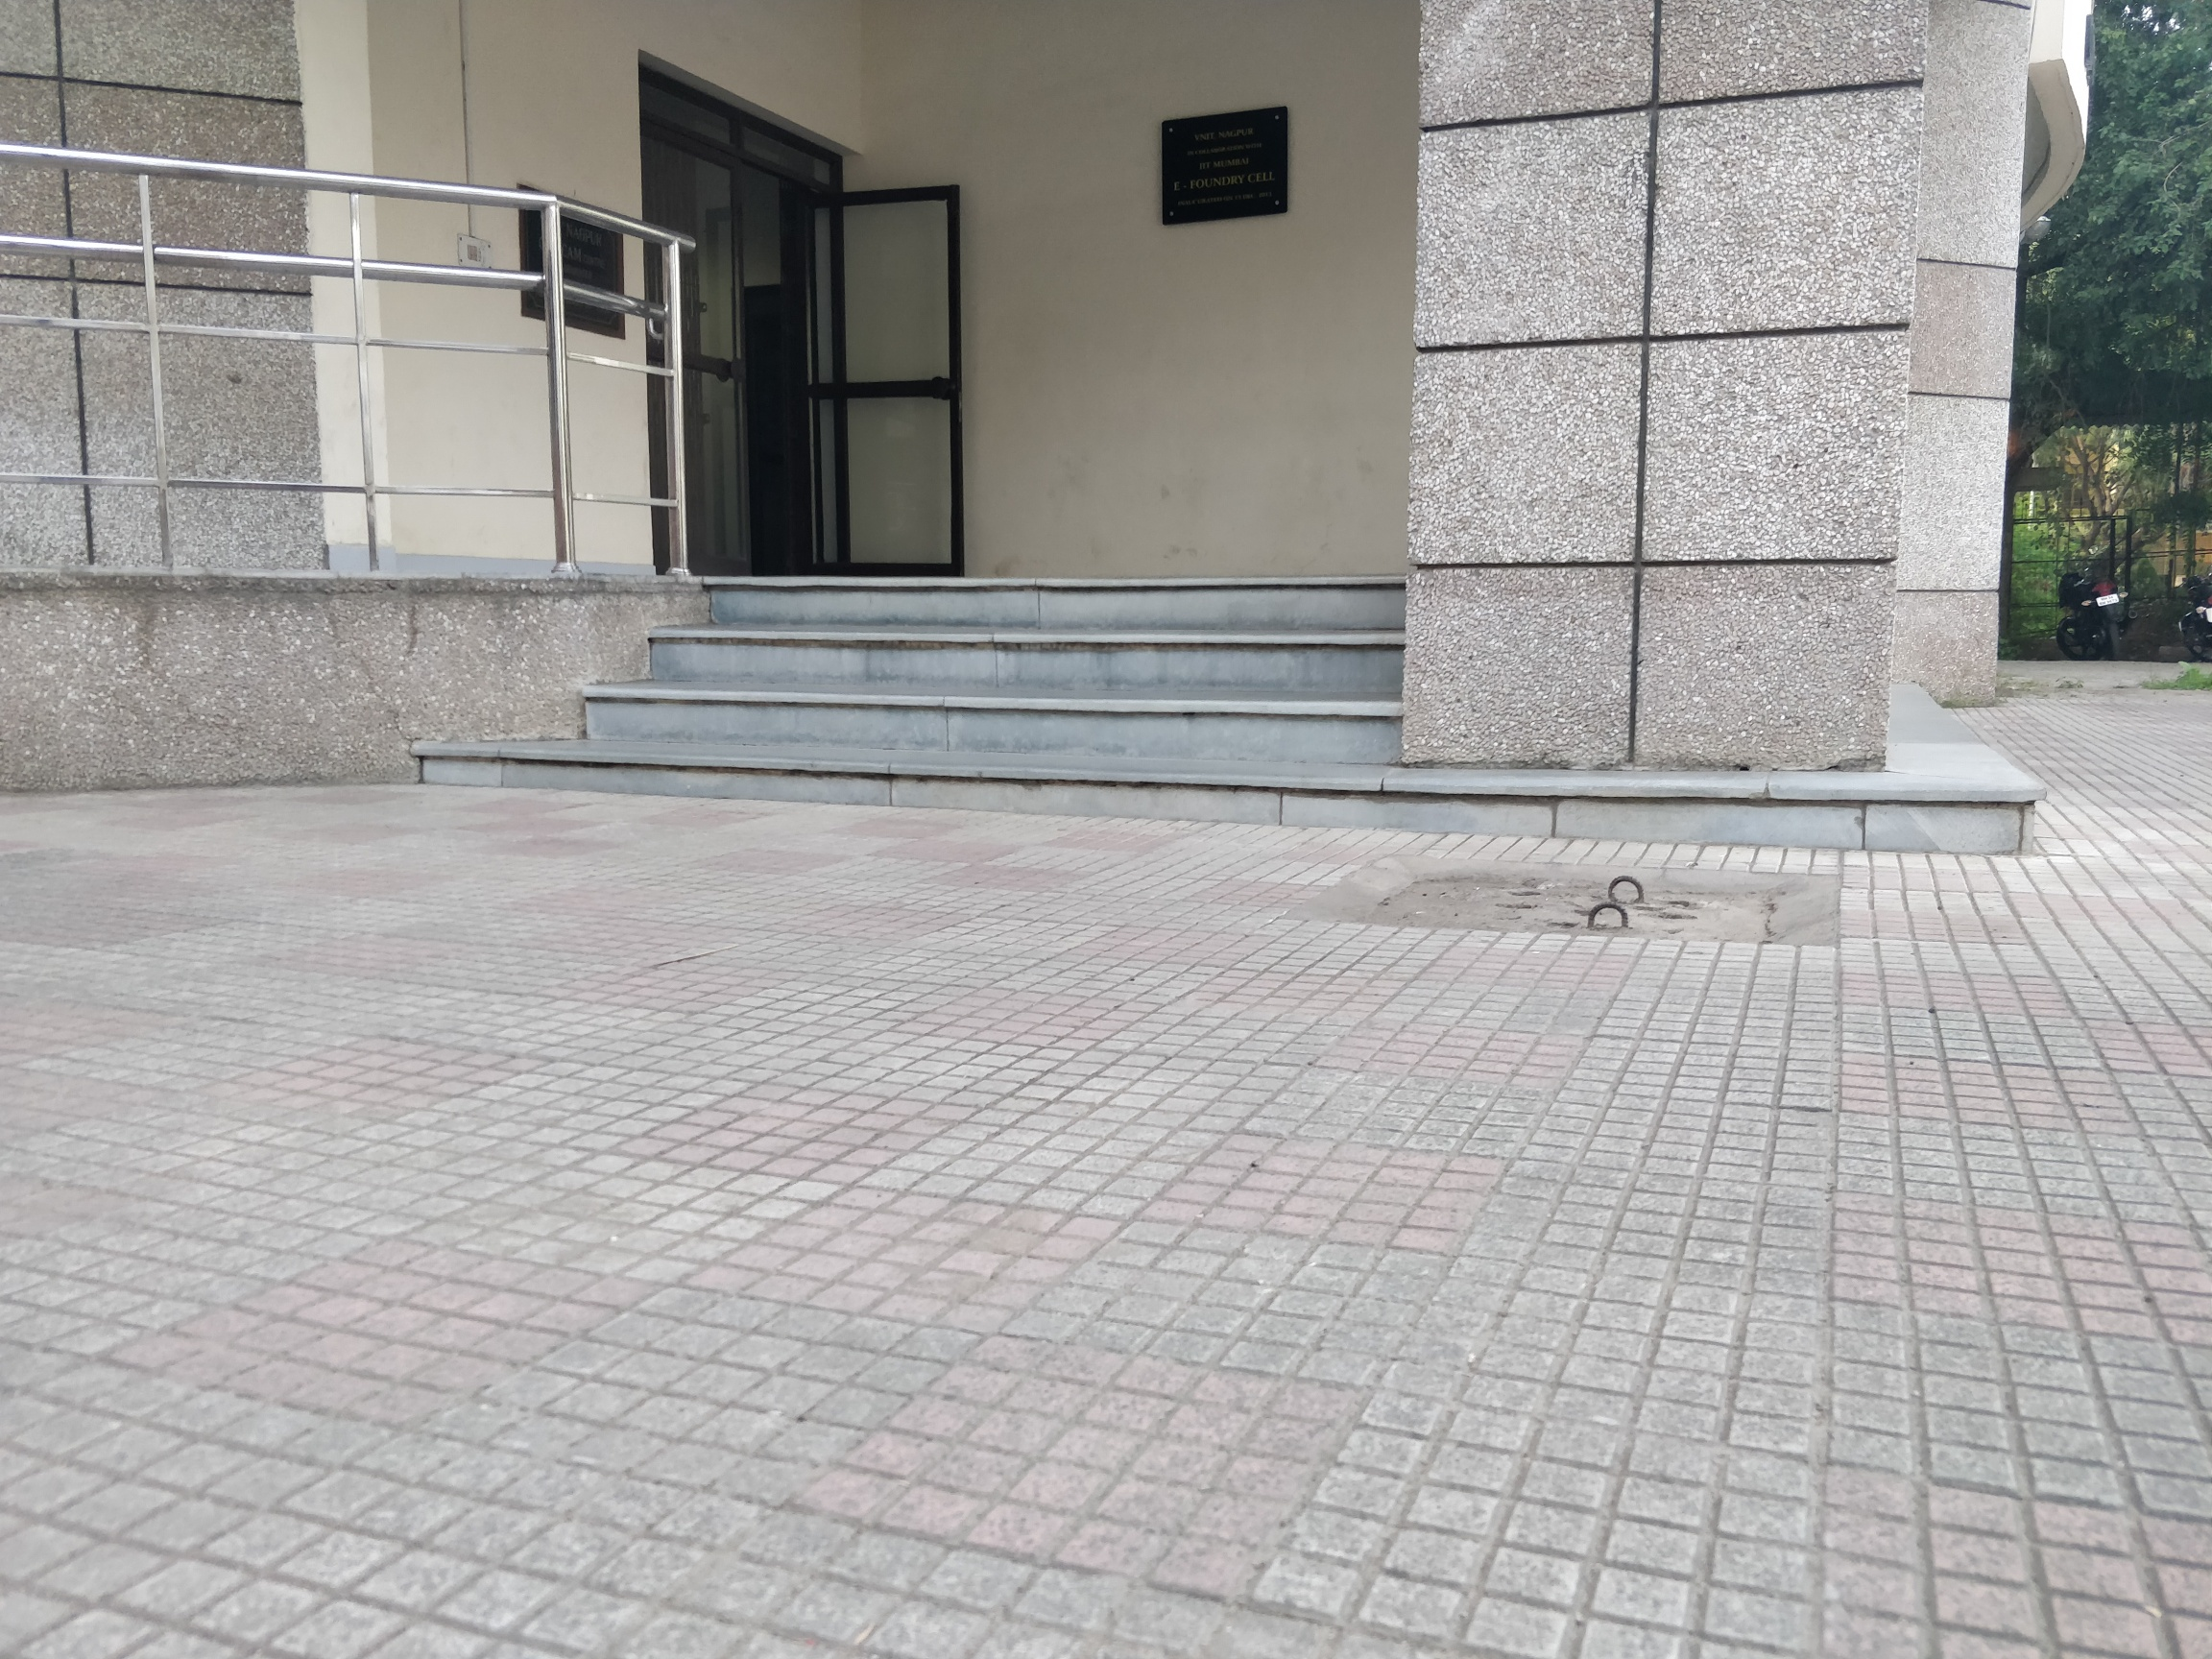stairs_up: (364, 561, 1407, 875)
